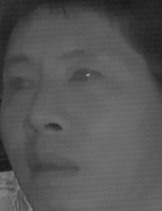eye: (69, 66, 104, 89), (7, 74, 35, 96)
mouth: (24, 149, 79, 183)
